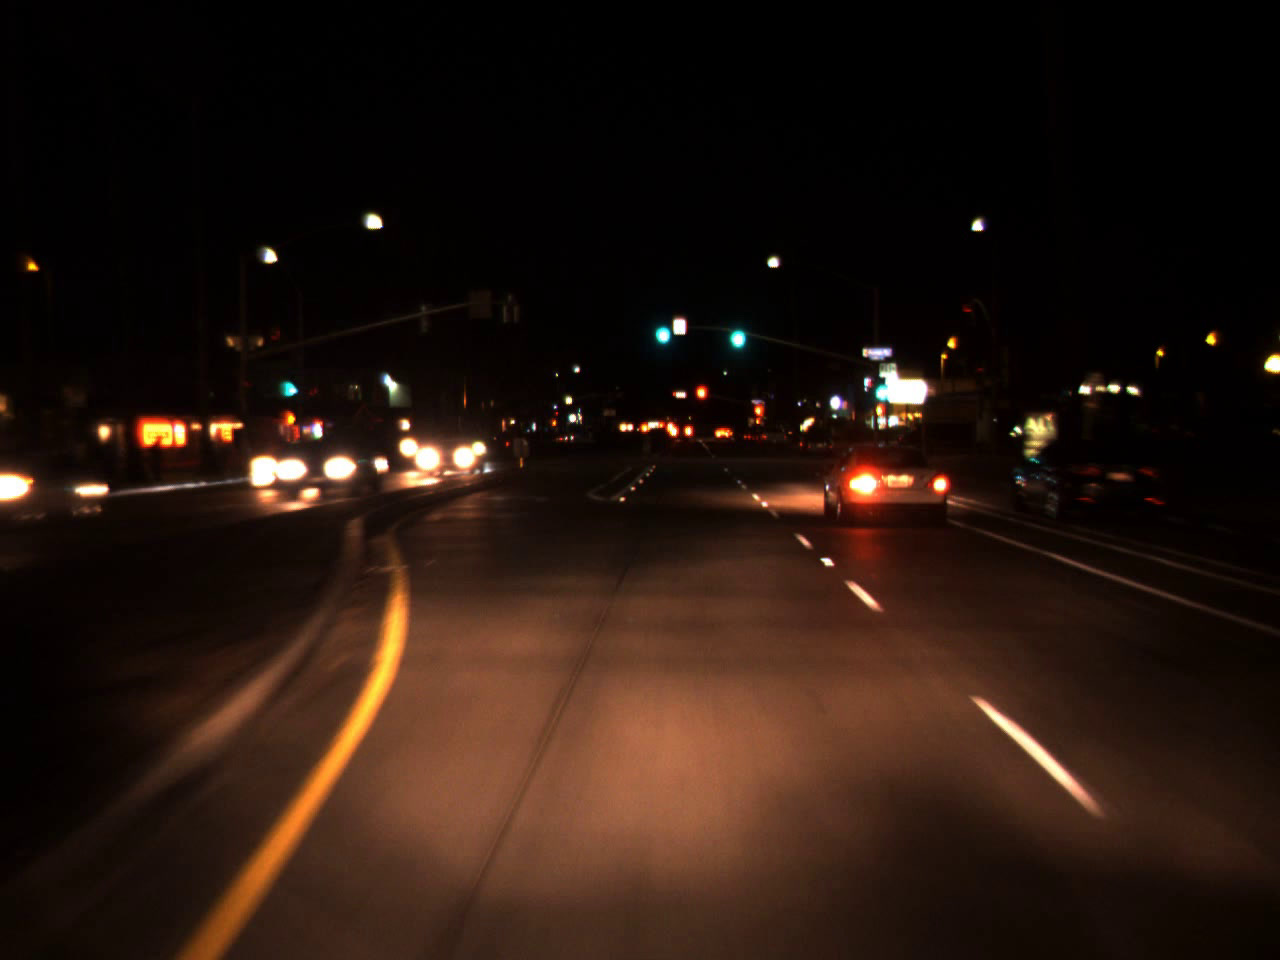go: (724, 307, 749, 355), (649, 307, 674, 349), (870, 361, 889, 403), (282, 363, 296, 402)
stop: (751, 401, 766, 433), (694, 384, 707, 413)
